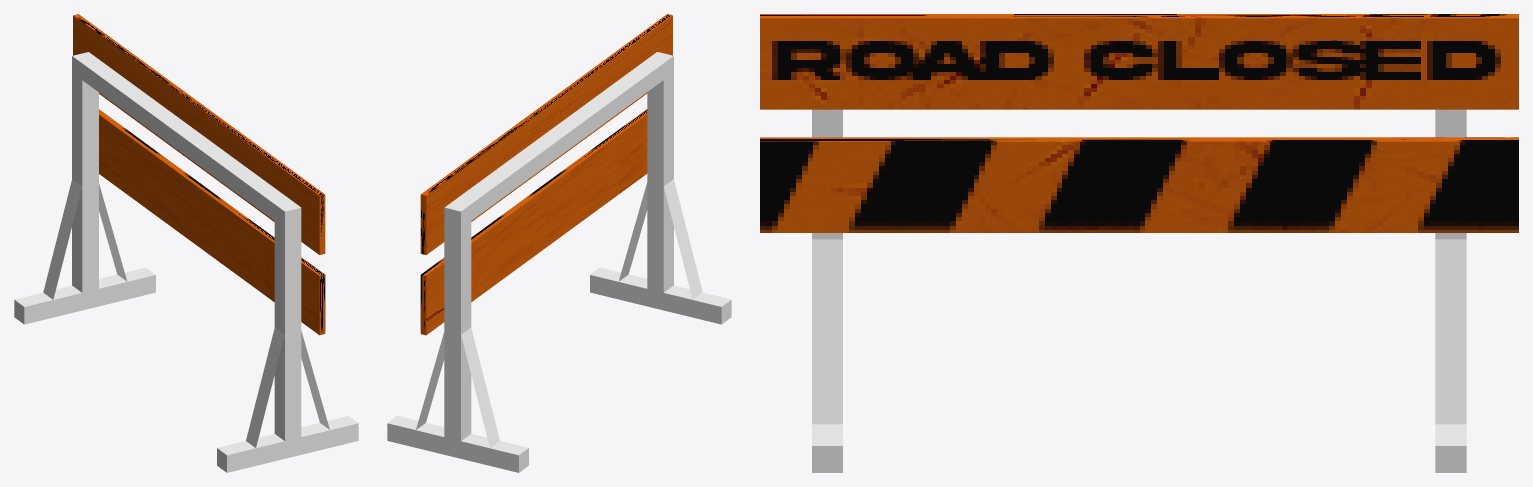
The model's file is barricade_1.glb.
The picture shows the model from 3 angles, left to right: view 1: azimuth 30°, elevation 25°; view 2: azimuth 150°, elevation 25°; view 3: azimuth 270°, elevation 25°; orthographic projection. The views are drawn at different scales.
Visible parts, largest first — view 1: Cube.001, Cube.002, Cube; view 2: Cube.001, Cube.002, Cube; view 3: Cube, Cube.002, Cube.001.
Part boxes in pixels (x1,y1,x2,y2): Cube.001: (14,52,358,472); Cube.002: (99,109,325,335); Cube: (73,14,325,254); Cube.001: (387,52,731,472); Cube.002: (420,109,647,335); Cube: (420,14,672,254); Cube: (760,14,1518,109); Cube.002: (760,137,1518,232); Cube.001: (812,109,1466,472).
Size of the model in its own units: 3 by 5.9 by 9.73.
2 materials, 1 textured.
